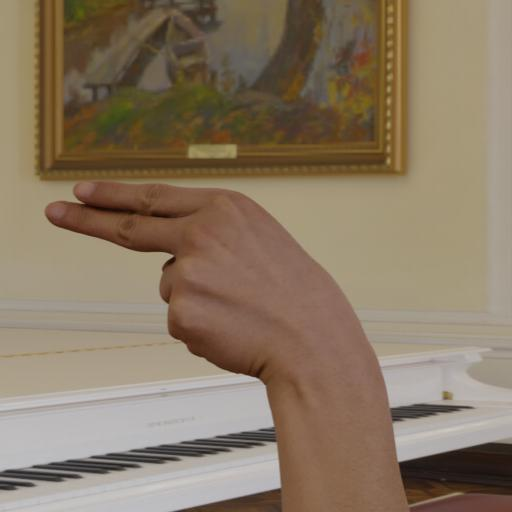H: (39, 177, 377, 389)
